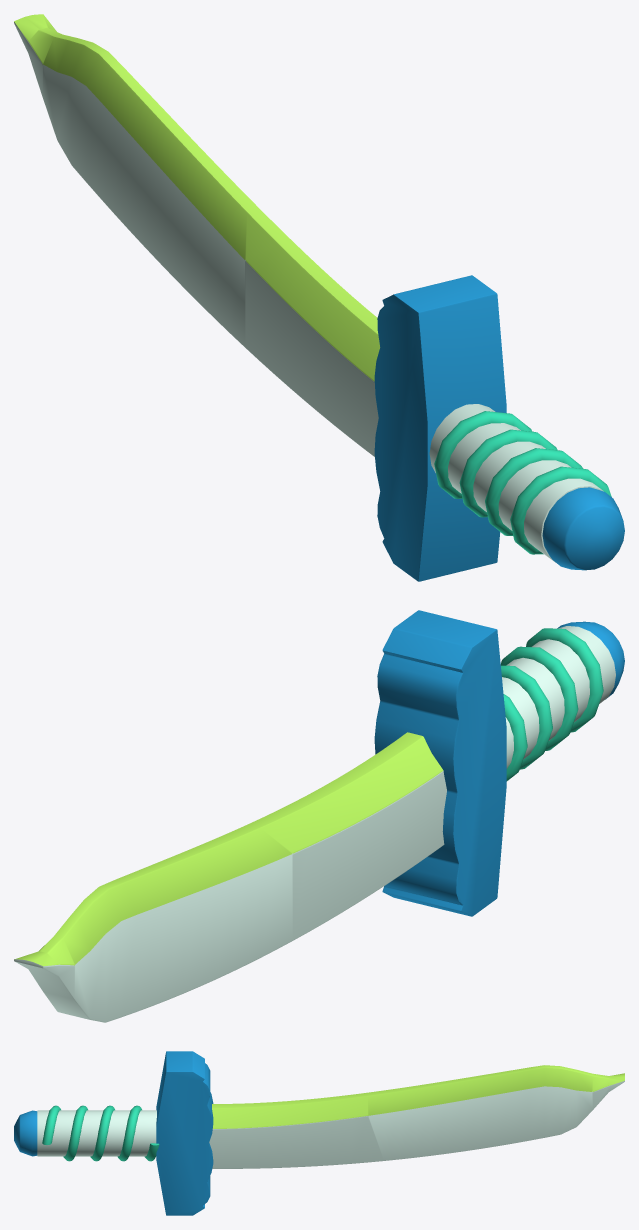
The model's file is Sword_FerrymansCutlass.glb.
3 renders of one model, top to bottom at view 1: azimuth 30°, elevation 25°; view 2: azimuth 150°, elevation 25°; view 3: azimuth 270°, elevation 25°, orthographic. The views are drawn at different scales.
Visible parts, largest first — view 1: Sword_FerrymansCutlass; view 2: Sword_FerrymansCutlass; view 3: Sword_FerrymansCutlass.
Boxes of the visible parts, left/top/right/bottom form: Sword_FerrymansCutlass: left=14, top=14, right=624, bottom=581; Sword_FerrymansCutlass: left=14, top=610, right=624, bottom=1022; Sword_FerrymansCutlass: left=14, top=1051, right=624, bottom=1215.
Size of the model in its own units: 0.092 by 0.26 by 1.
Materials: 1 (1 with a texture image).
